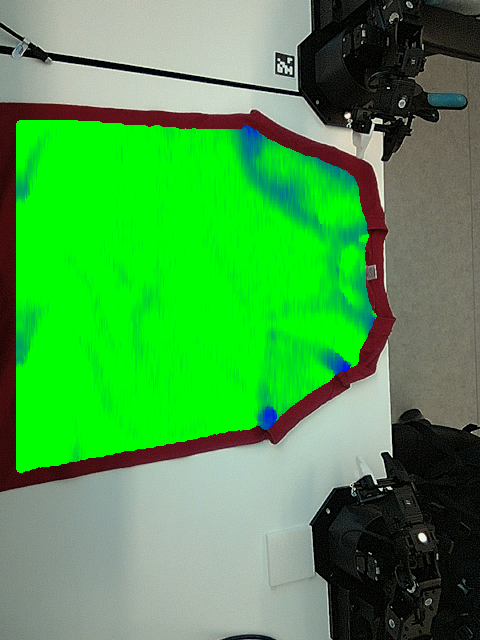V: (257, 312, 297, 364)
